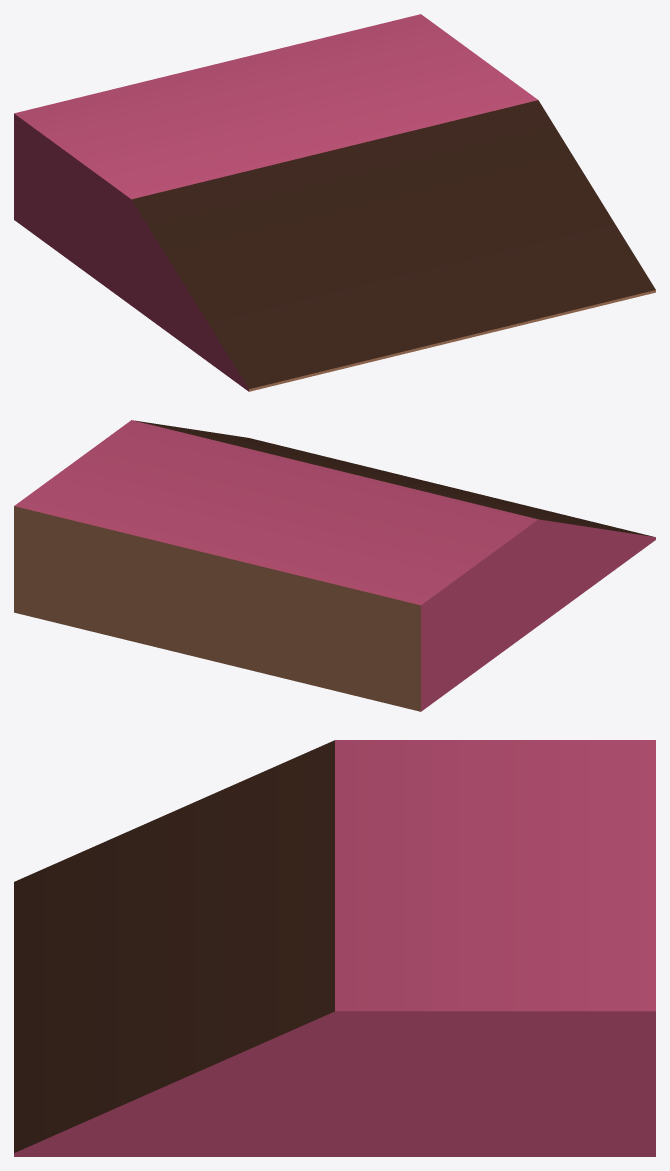
The model's file is uniformedTile-30_col.fbx.
3 renders of one model, top to bottom at view 1: azimuth 30°, elevation 25°; view 2: azimuth 150°, elevation 25°; view 3: azimuth 270°, elevation 25°, orthographic. The views are drawn at different scales.
Visible parts, largest first — view 1: uniformedTile-30.col; view 2: uniformedTile-30.col; view 3: uniformedTile-30.col.
Boxes of the visible parts, x1,y1,x2,y2 form: uniformedTile-30.col: (14,14,655,391); uniformedTile-30.col: (14,420,655,711); uniformedTile-30.col: (14,740,655,1156).
Bounding box in the file's own units: 2 × 0.5 × 2.
1 material, 1 textured.
